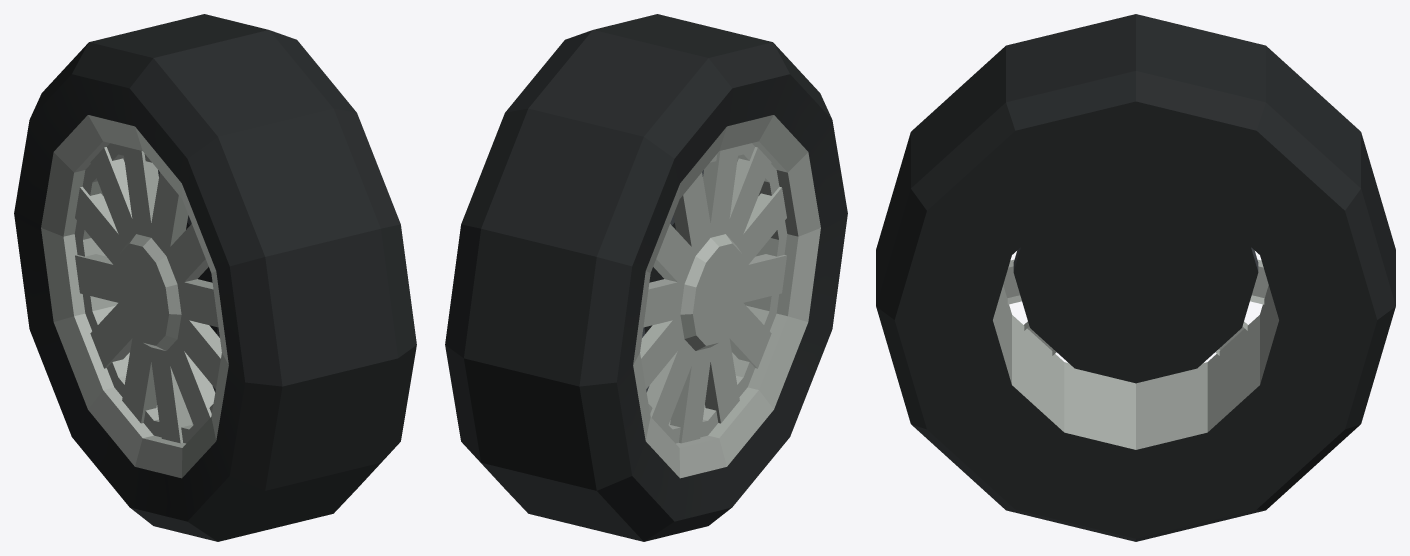
Rendered from SM_Veh_Car_Police_Wheel_rr.obj.
3 renders of one model, left to right at view 1: azimuth 30°, elevation 25°; view 2: azimuth 150°, elevation 25°; view 3: azimuth 270°, elevation 25°, orthographic.
Visible parts, largest first — view 1: SM_Veh_Car_Police_Wheel_rr_0; view 2: SM_Veh_Car_Police_Wheel_rr_0; view 3: SM_Veh_Car_Police_Wheel_rr_0.
Boxes of the visible parts, <box> form: SM_Veh_Car_Police_Wheel_rr_0: <box>14,14,416,541</box>; SM_Veh_Car_Police_Wheel_rr_0: <box>445,14,847,541</box>; SM_Veh_Car_Police_Wheel_rr_0: <box>876,14,1395,541</box>.
Bounding box in the file's own units: 0.2707 × 0.7229 × 0.7229.
Materials: 1 (1 with a texture image).
